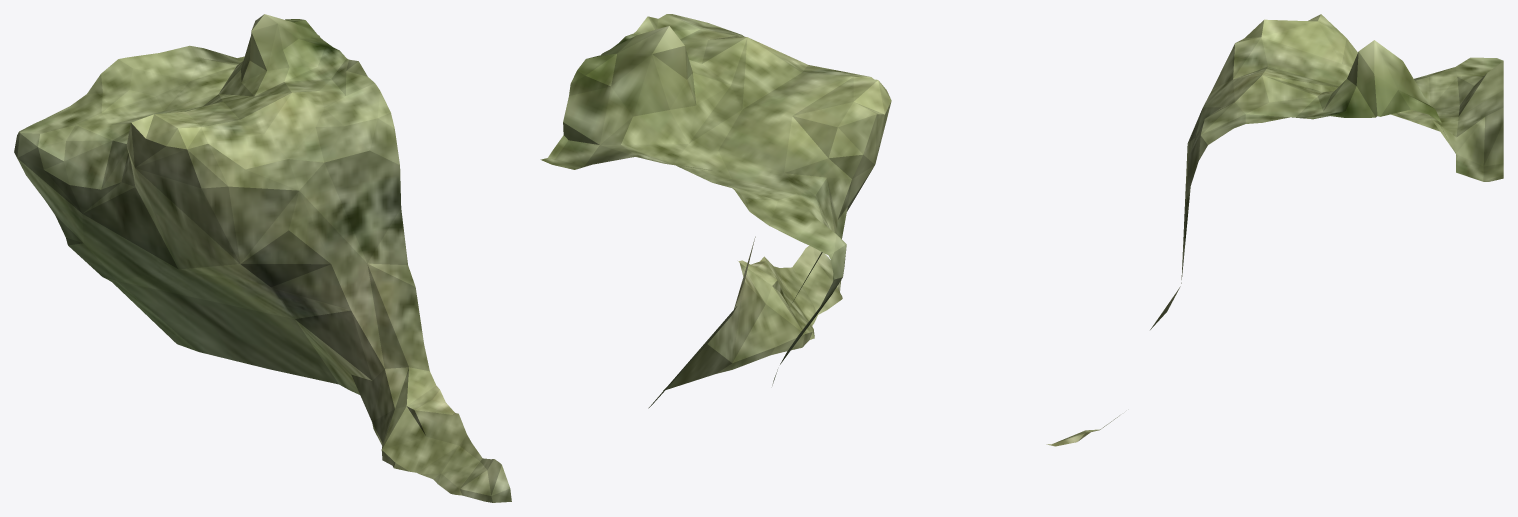
3 views of the same model, side by side, from view 1: azimuth 30°, elevation 25°; view 2: azimuth 150°, elevation 25°; view 3: azimuth 270°, elevation 25° (orthographic). The views are drawn at different scales.
Size of the model in its own units: 1.93 by 2.62 by 3.22.
Materials: 1 (1 with a texture image).
